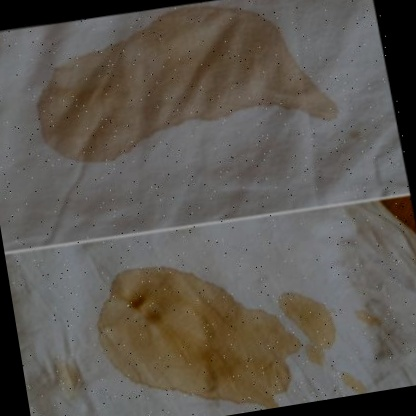coffee: (48, 20, 306, 139), (115, 292, 226, 379), (222, 317, 291, 397)
